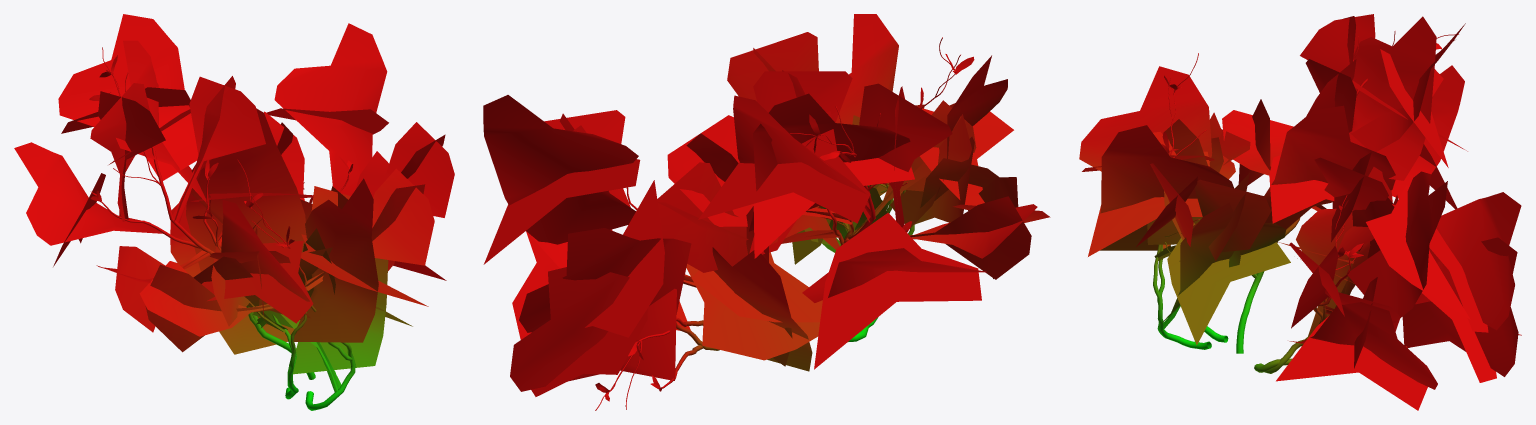
Rendered from Downy Willow_LOD3_Var18_wknlfiuqx.fbx.
3 views of the same model, side by side, from view 1: azimuth 30°, elevation 25°; view 2: azimuth 150°, elevation 25°; view 3: azimuth 270°, elevation 25° (orthographic). The views are drawn at different scales.
Parts seen in each view (by area): view 1: _842c_Var18_LOD3; view 2: _842c_Var18_LOD3; view 3: _842c_Var18_LOD3.
Boxes of the visible parts, x1,y1,x2,y2 form: _842c_Var18_LOD3: (14,14,454,410); _842c_Var18_LOD3: (483,14,1050,410); _842c_Var18_LOD3: (1079,14,1521,410).
Bounding box in the file's own units: 123 × 90.96 × 121.
